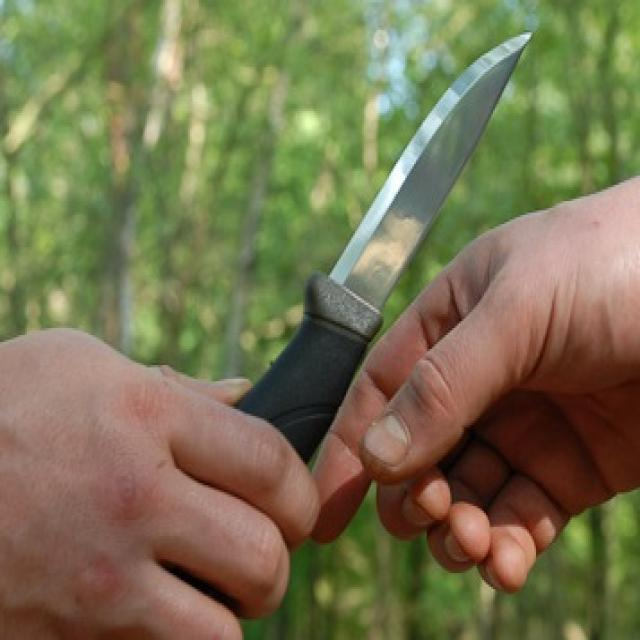knife: (222, 27, 539, 474)
